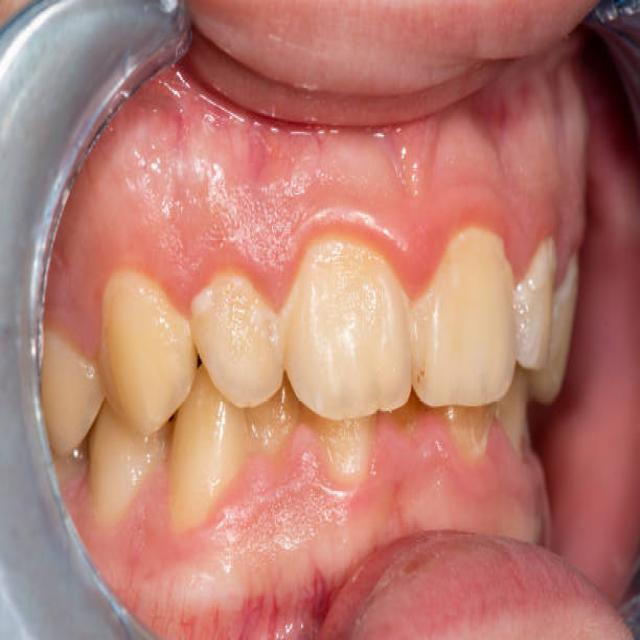swelling: (379, 198, 452, 321)
